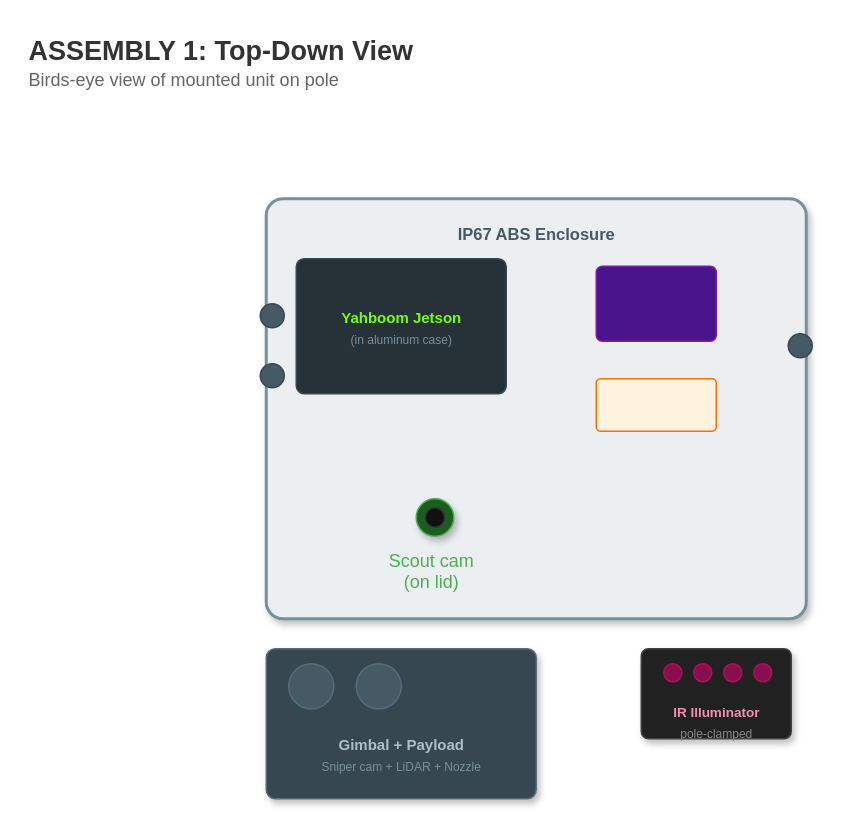
The diagram is 842 pixels wide and 836 high, and some of its shapes have lost their labels. Each missing label, with the centre of its shape:
Relay: (655,303)
Wago ×2: (655,404)
